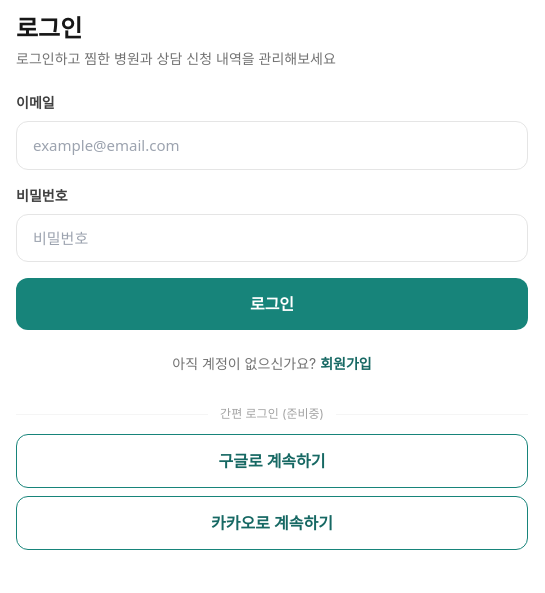
로그인 화면 — 서버 오류 › 422 의 details[].field 를 그 필드 아래에 매핑한다
The image size is (545, 593).
Type "seed-1@molarmolar.example" into the field labelled "이메일" at (272, 145), box [16,121,528,170]
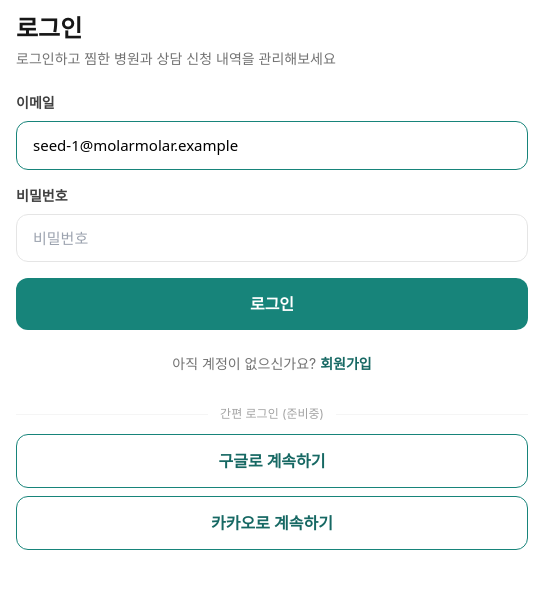
Type "pw123456" into the password field labelled "비밀번호" at (272, 238), box [16,214,528,262]
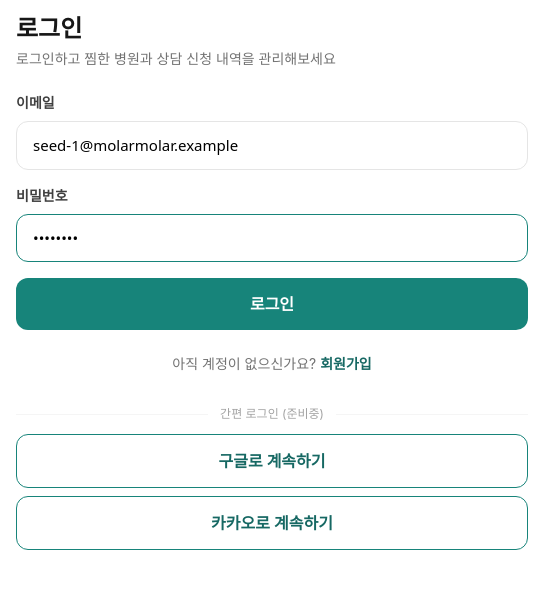
Click the button "로그인" at (272, 304), box [16,278,528,330]
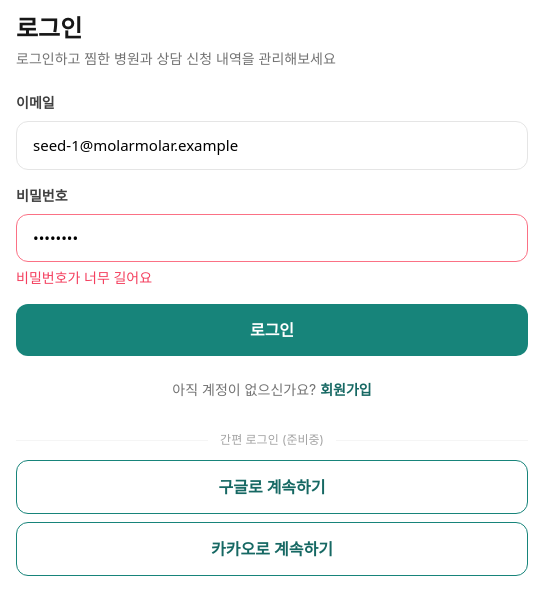
Result: the text "비밀번호가 너무 길어요" is shown at [16,268,152,287]
